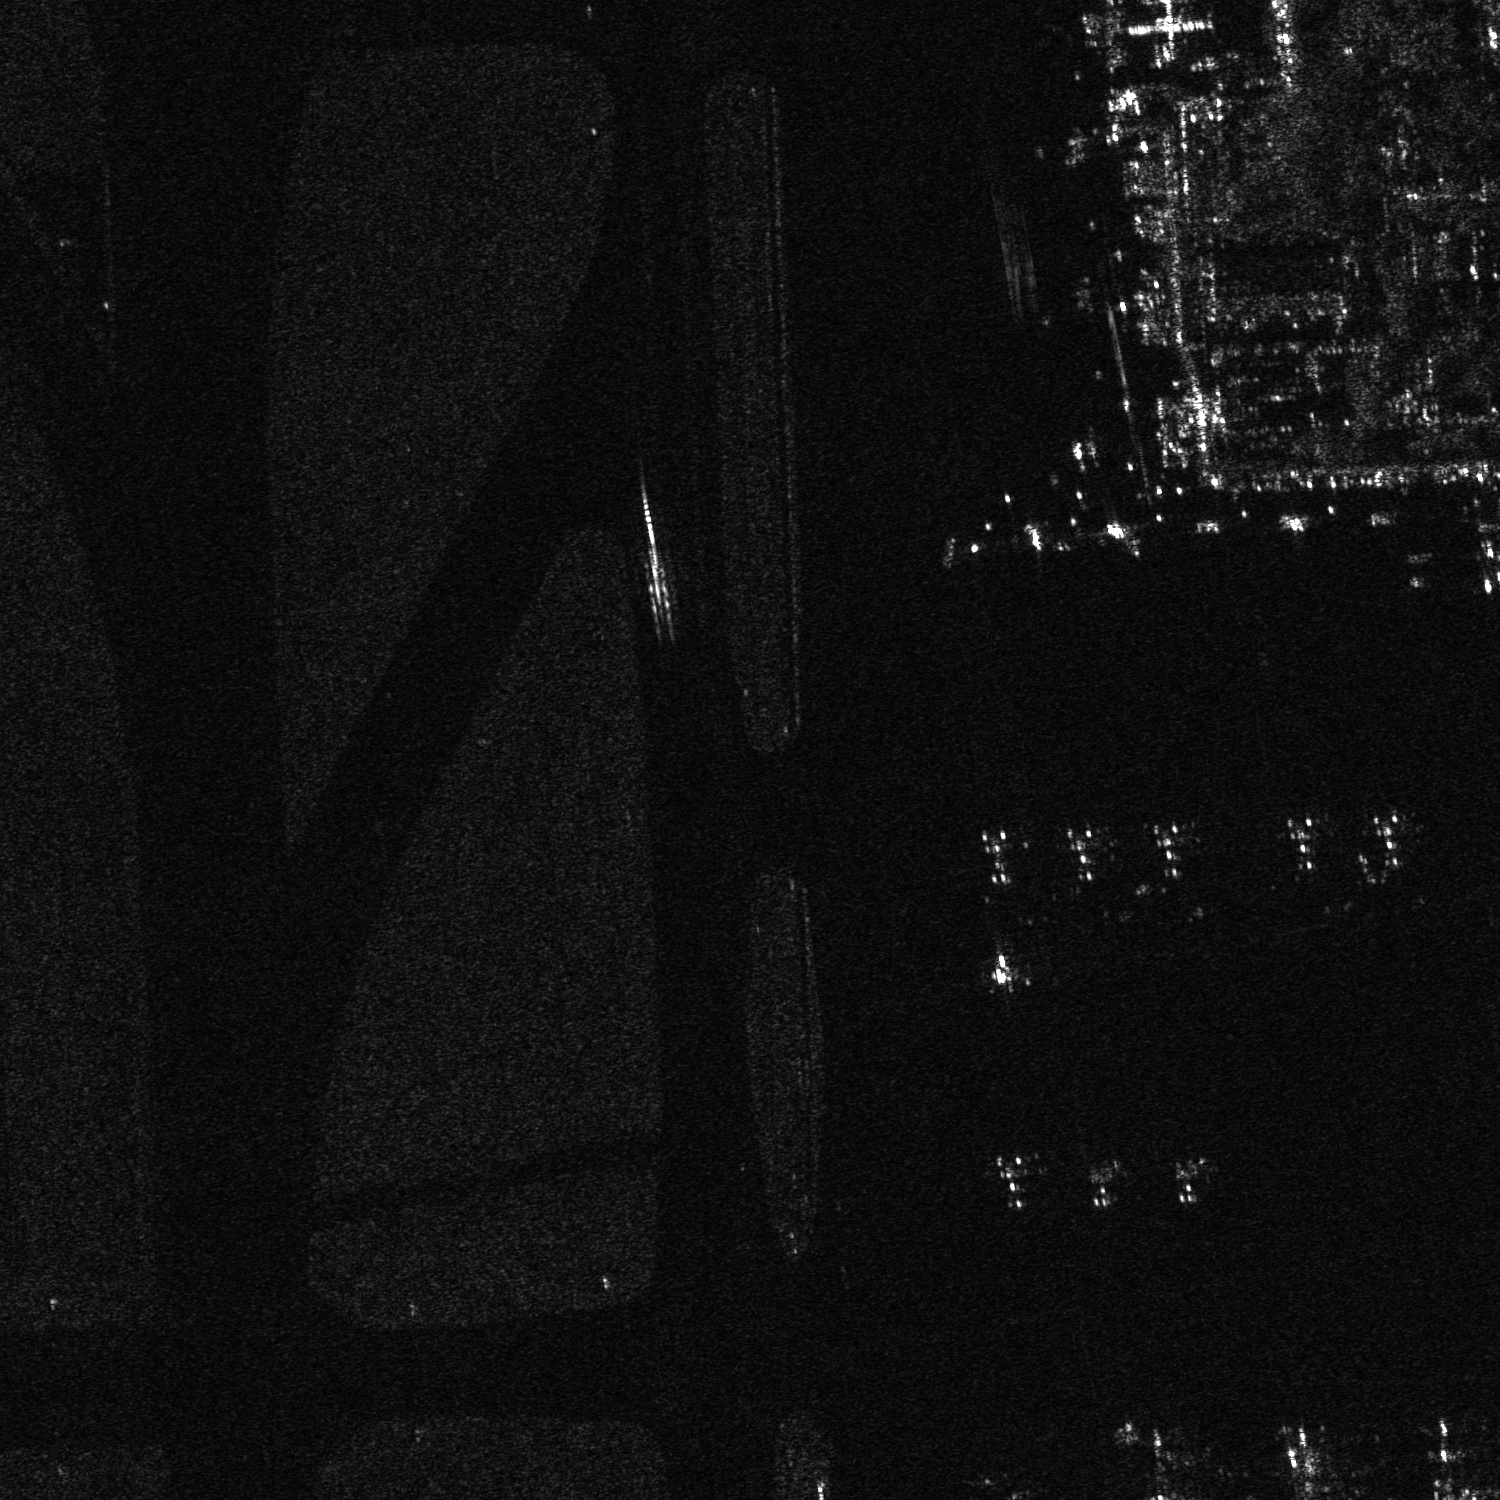A220: (1272, 1418, 1338, 1497), (1076, 1150, 1126, 1212)
A320/321: (1161, 1150, 1216, 1207)
ARJ21: (977, 1146, 1045, 1214), (1457, 516, 1499, 596), (973, 942, 1027, 999)
Boeing737: (1089, 512, 1155, 562)
Boeing787: (1412, 1413, 1479, 1488)
other: (1352, 805, 1422, 875), (1137, 813, 1201, 889), (1124, 1418, 1190, 1488), (968, 821, 1029, 889), (1056, 815, 1109, 889), (1275, 809, 1324, 879)
